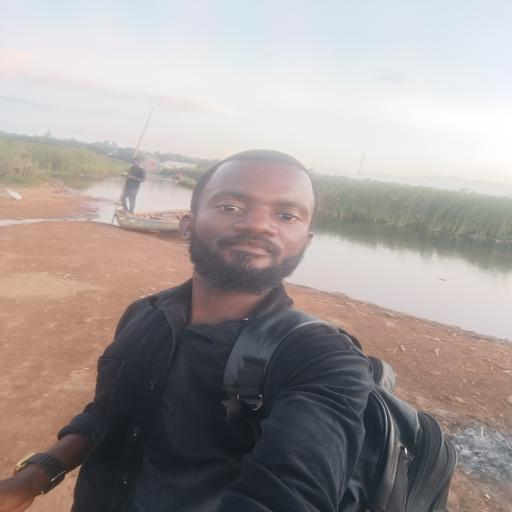MATTHIEU: (185, 137, 322, 306)
